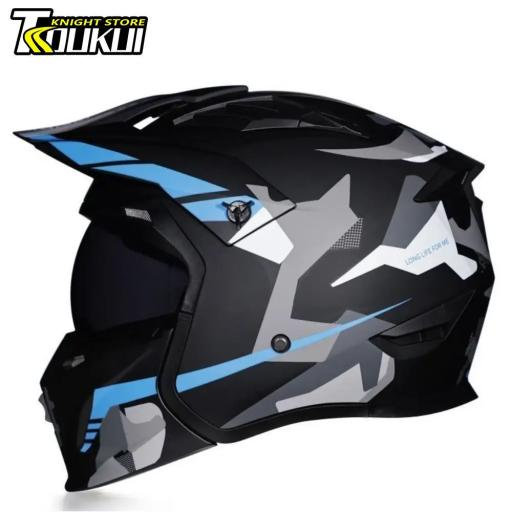helmet-detection: (9, 58, 512, 504)
